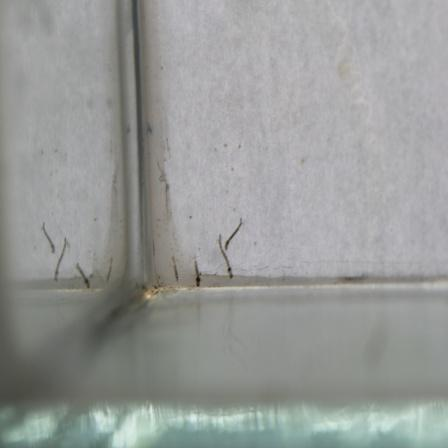Jentik-Nyamuk: (216, 214, 245, 281), (191, 257, 203, 289)
